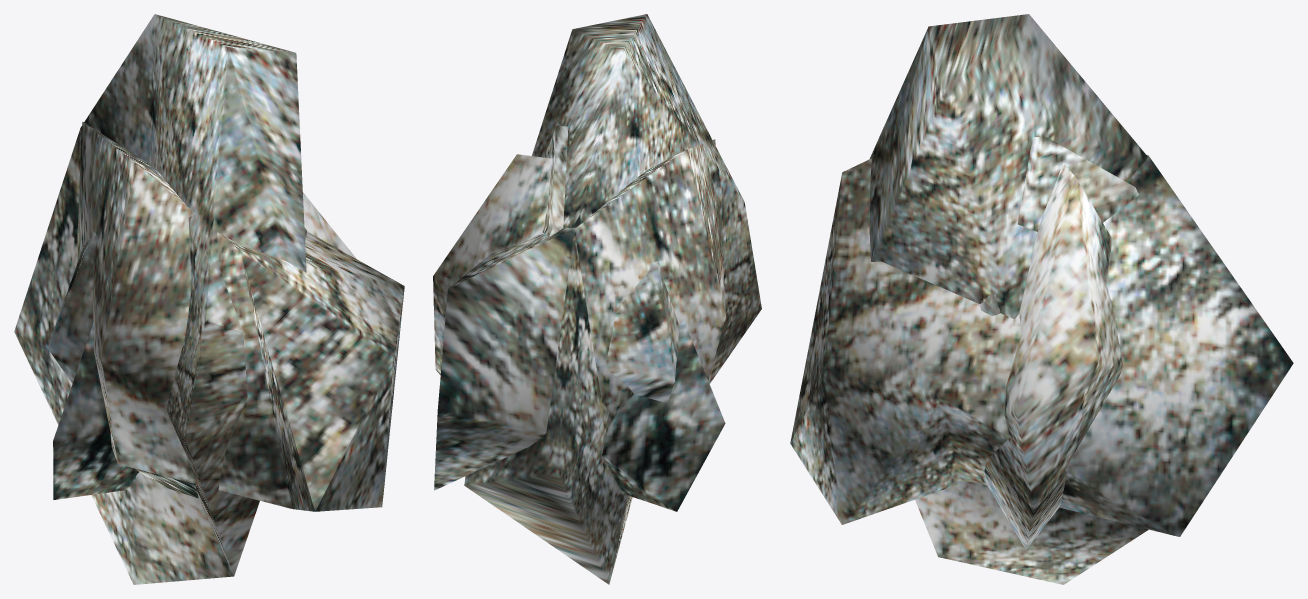
File: mesh_capcom_debris_stone00_small.fbx
The picture shows the model from 3 angles, left to right: view 1: azimuth 30°, elevation 25°; view 2: azimuth 150°, elevation 25°; view 3: azimuth 270°, elevation 25°; orthographic projection. The views are drawn at different scales.
Visible parts, largest first — view 1: LODGroup_1_MainMesh_3_SubMesh_1, LODGroup_1_MainMesh_4_SubMesh_1, LODGroup_1_MainMesh_2_SubMesh_1, LODGroup_1_MainMesh_1_SubMesh_1; view 2: LODGroup_1_MainMesh_4_SubMesh_1, LODGroup_1_MainMesh_3_SubMesh_1, LODGroup_1_MainMesh_2_SubMesh_1, LODGroup_1_MainMesh_1_SubMesh_1; view 3: LODGroup_1_MainMesh_3_SubMesh_1, LODGroup_1_MainMesh_4_SubMesh_1, LODGroup_1_MainMesh_2_SubMesh_1, LODGroup_1_MainMesh_1_SubMesh_1.
Part boxes in pixels (box(x1,y1,x2,y2)): LODGroup_1_MainMesh_3_SubMesh_1: box(76, 122, 404, 511); LODGroup_1_MainMesh_4_SubMesh_1: box(14, 14, 306, 584); LODGroup_1_MainMesh_2_SubMesh_1: box(53, 192, 356, 499); LODGroup_1_MainMesh_1_SubMesh_1: box(47, 227, 307, 498); LODGroup_1_MainMesh_4_SubMesh_1: box(464, 14, 761, 584); LODGroup_1_MainMesh_3_SubMesh_1: box(434, 139, 725, 490); LODGroup_1_MainMesh_2_SubMesh_1: box(433, 154, 725, 511); LODGroup_1_MainMesh_1_SubMesh_1: box(542, 125, 679, 402); LODGroup_1_MainMesh_3_SubMesh_1: box(790, 155, 1293, 536); LODGroup_1_MainMesh_4_SubMesh_1: box(869, 14, 1148, 584); LODGroup_1_MainMesh_2_SubMesh_1: box(983, 163, 1123, 549); LODGroup_1_MainMesh_1_SubMesh_1: box(979, 136, 1138, 315).
Bounding box in the file's own units: 14.21 × 25.02 × 19.94.
